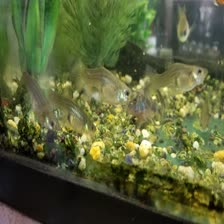Guppy: (41, 84, 101, 142), (69, 55, 136, 104), (140, 57, 211, 98)
